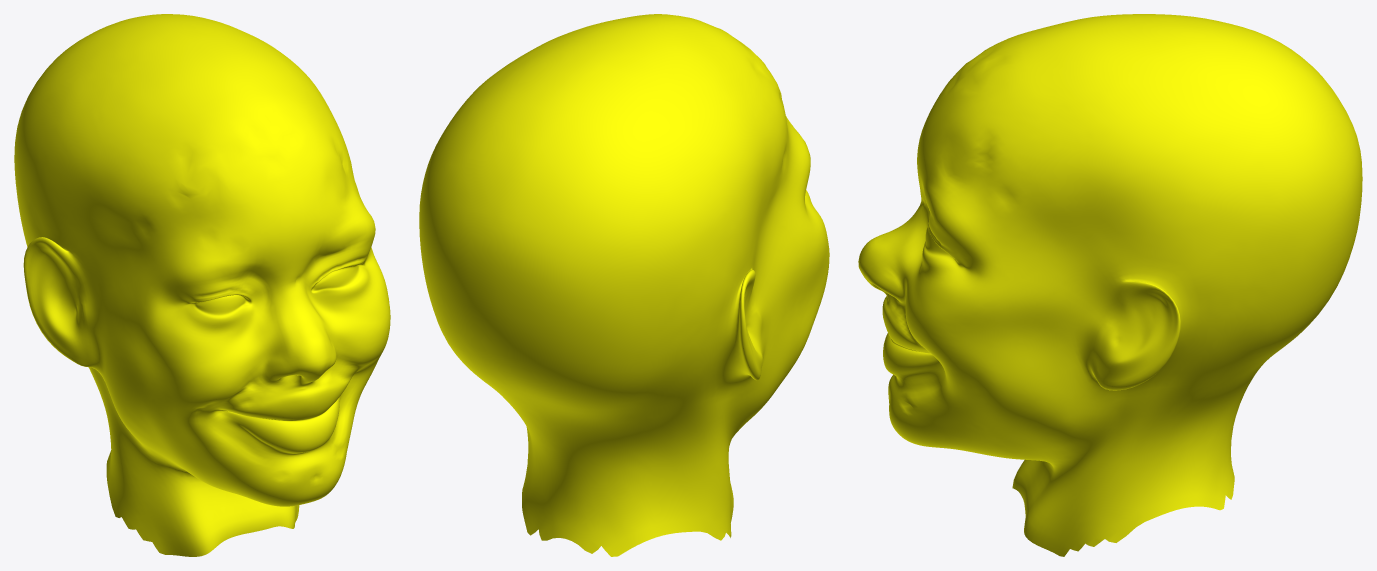
The model's file is head_yellow.glb.
The picture shows the model from 3 angles, left to right: view 1: azimuth 30°, elevation 25°; view 2: azimuth 150°, elevation 25°; view 3: azimuth 270°, elevation 25°; orthographic projection. The views are drawn at different scales.
Parts seen in each view (by area): view 1: FaceBuilderHead.002; view 2: FaceBuilderHead.002; view 3: FaceBuilderHead.002.
Boxes of the visible parts, box(x1,y1,x2,y2) form: FaceBuilderHead.002: box(14, 14, 390, 556); FaceBuilderHead.002: box(419, 14, 829, 556); FaceBuilderHead.002: box(858, 14, 1362, 556).
Size of the model in its own units: 1.96 by 2.91 by 2.69.
